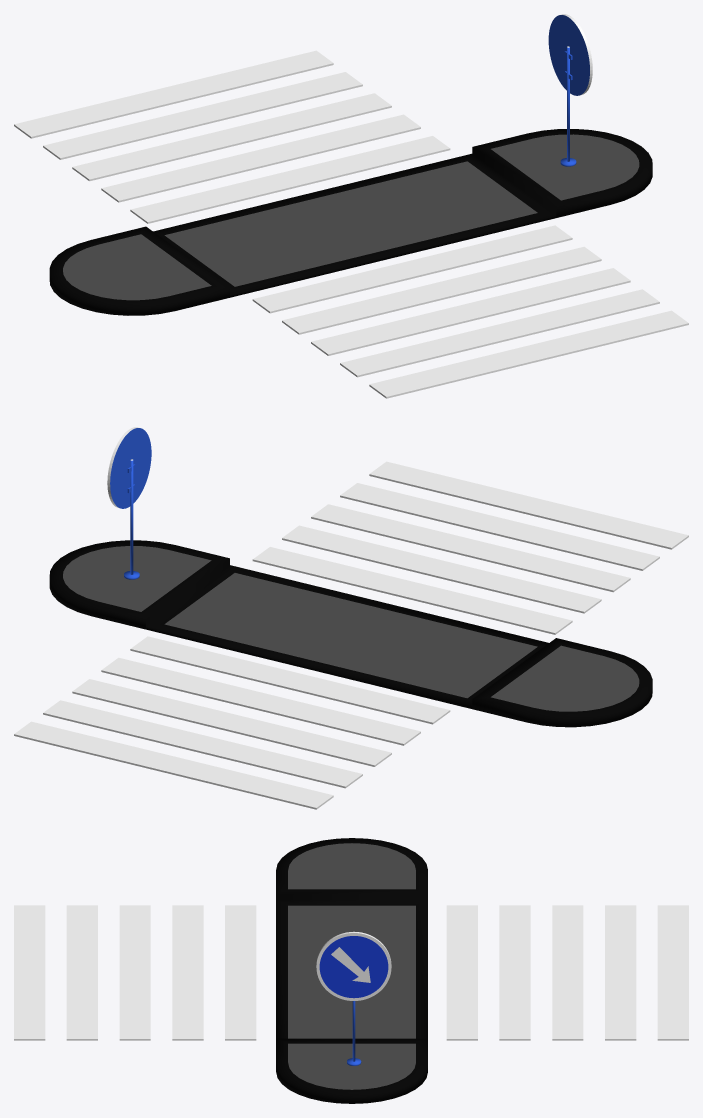
Rendered from prechod.fbx.
The picture shows the model from 3 angles, top to bottom: view 1: azimuth 30°, elevation 25°; view 2: azimuth 150°, elevation 25°; view 3: azimuth 270°, elevation 25°; orthographic projection. The views are drawn at different scales.
Visible parts, largest first — view 1: Cube; view 2: Cube; view 3: Cube.
Boxes of the visible parts, x1=… form: Cube: x1=14, y1=14, x2=688, y2=398; Cube: x1=14, y1=427, x2=688, y2=809; Cube: x1=14, y1=838, x2=688, y2=1103.
Bounding box in the file's own units: 887 × 226 × 985.
